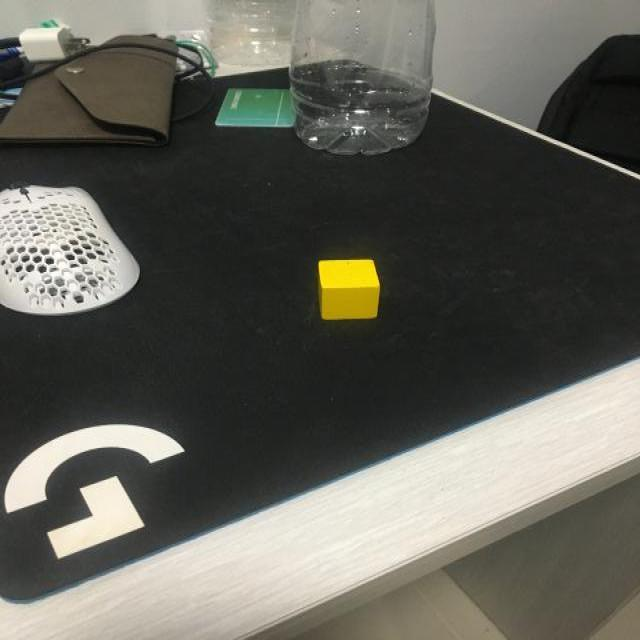yellow: (316, 259, 381, 321)
